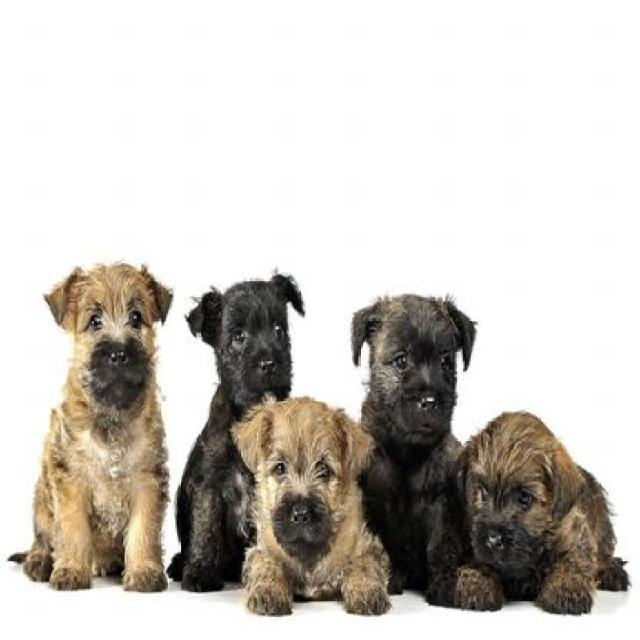animals: (31, 254, 182, 621), (430, 386, 636, 640), (345, 250, 484, 624), (196, 375, 395, 623), (167, 232, 313, 426)
